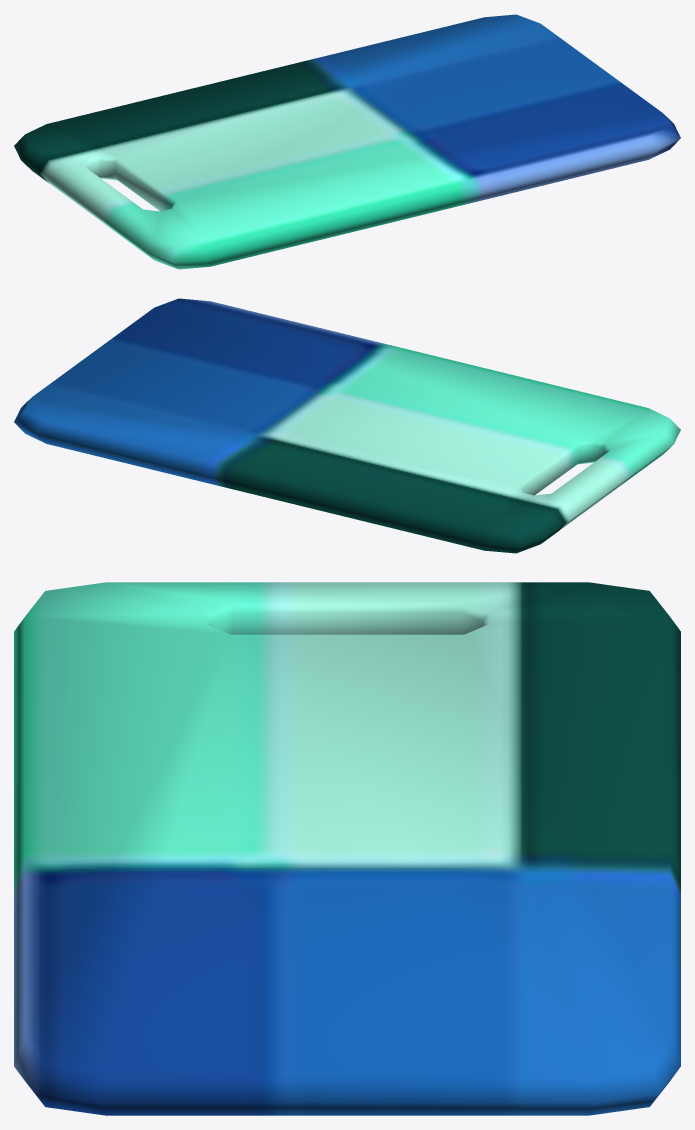
The model's file is CuttingBoard.fbx.
The picture shows the model from 3 angles, top to bottom: view 1: azimuth 30°, elevation 25°; view 2: azimuth 150°, elevation 25°; view 3: azimuth 270°, elevation 25°; orthographic projection. The views are drawn at different scales.
Parts seen in each view (by area): view 1: CuttingBoard; view 2: CuttingBoard; view 3: CuttingBoard.
Boxes of the visible parts, left/top/right/bottom form: CuttingBoard: left=14, top=14, right=680, bottom=269; CuttingBoard: left=14, top=298, right=680, bottom=553; CuttingBoard: left=14, top=582, right=680, bottom=1115.
Bounding box in the file's own units: 19.03 × 0.7826 × 10.61.
